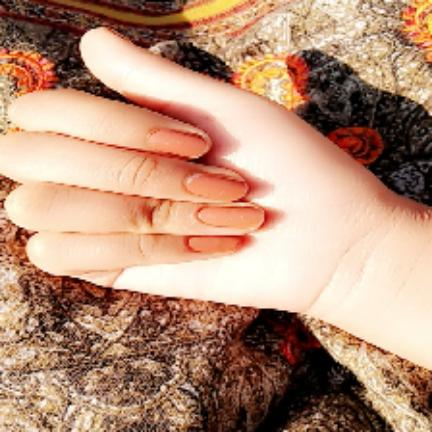Nail: (183, 173, 250, 201), (147, 128, 208, 158), (196, 206, 265, 229), (187, 235, 242, 253)
